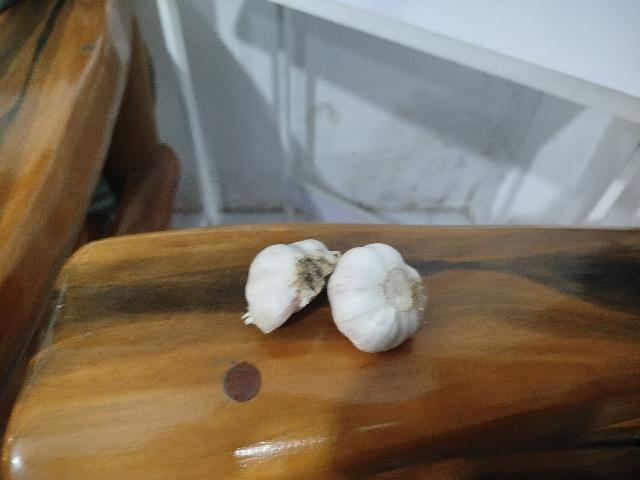garlic: (327, 243, 428, 353), (241, 238, 341, 334)
